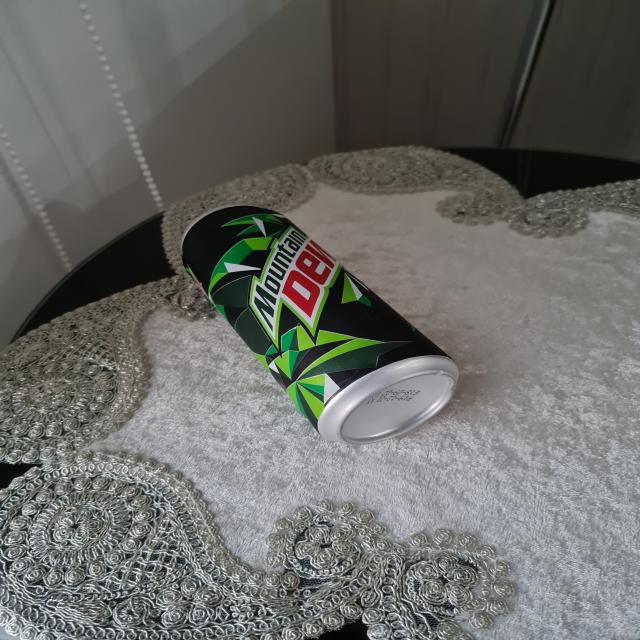non-organic waste: (176, 205, 466, 450)
